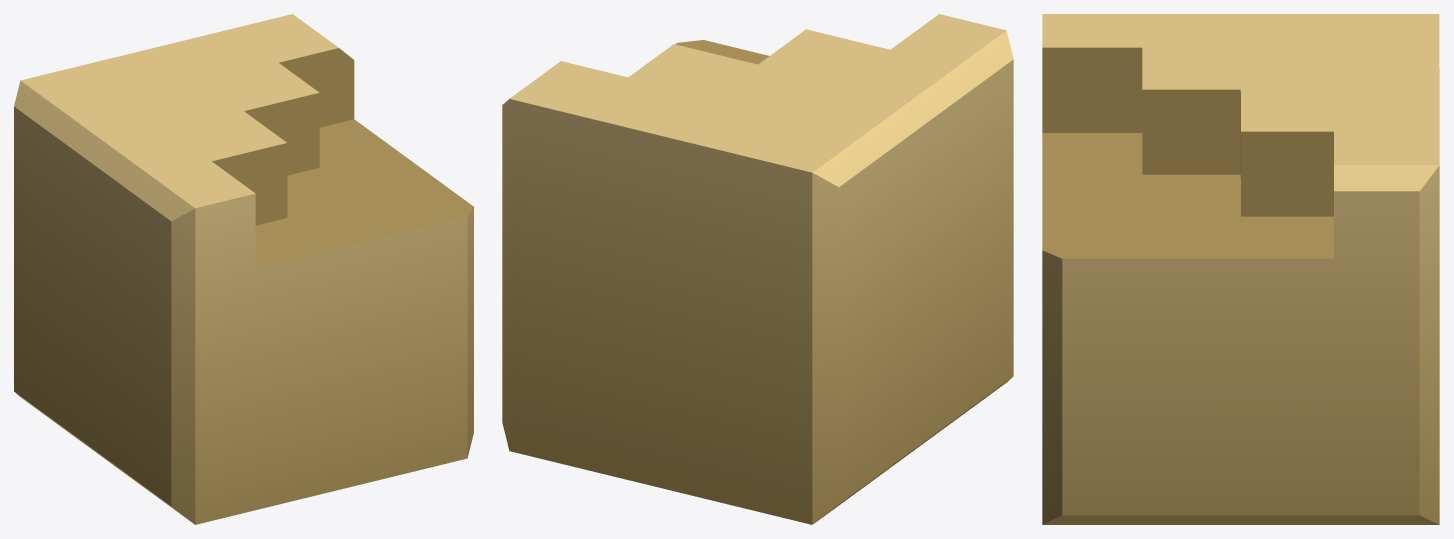
The model's file is Tile_Ladder_White.fbx.
The picture shows the model from 3 angles, left to right: view 1: azimuth 30°, elevation 25°; view 2: azimuth 150°, elevation 25°; view 3: azimuth 270°, elevation 25°; orthographic projection. The views are drawn at different scales.
Visible parts, largest first — view 1: Tile Tangga Putih; view 2: Tile Tangga Putih; view 3: Tile Tangga Putih.
Boxes of the visible parts, x1,y1,x2,y2 form: Tile Tangga Putih: (14,14,473,524); Tile Tangga Putih: (502,14,1013,524); Tile Tangga Putih: (1042,14,1439,524).
Size of the model in its own units: 1 by 1 by 1.
1 material, 1 textured.
